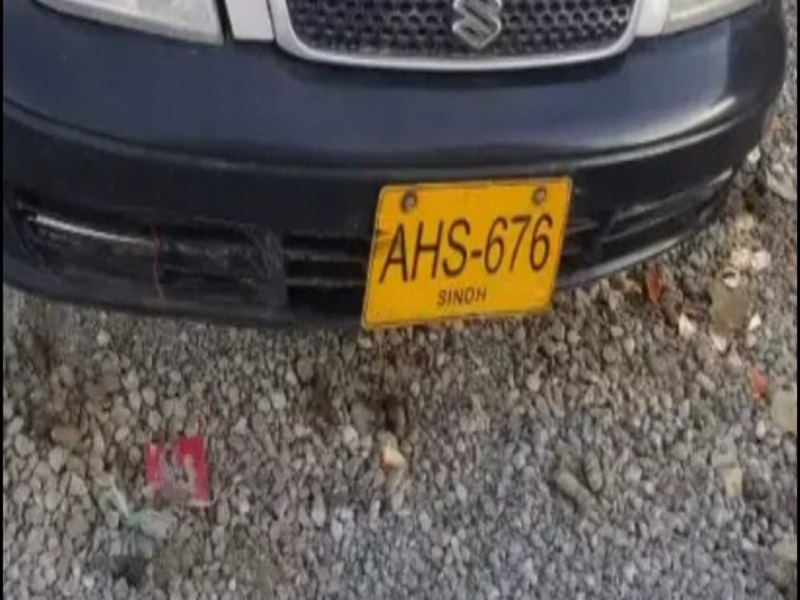License Plate: (373, 182, 568, 317)
